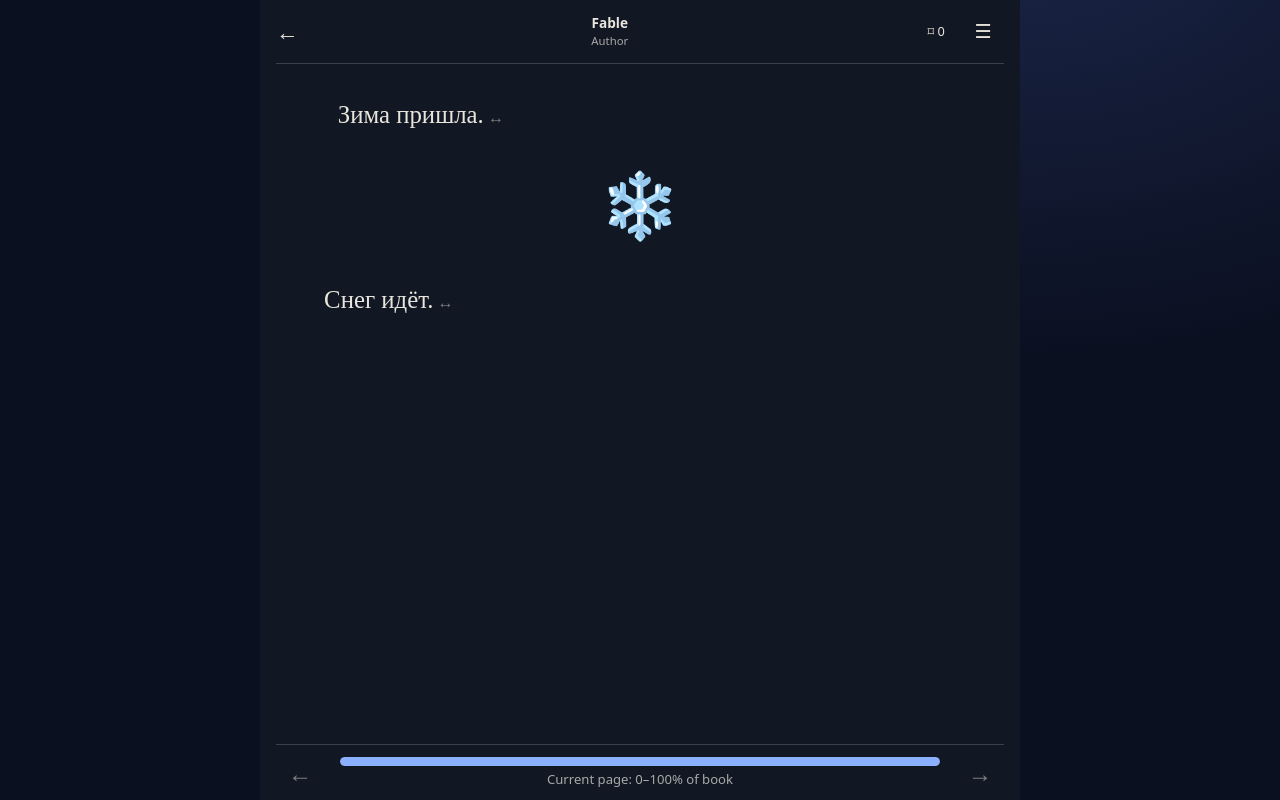
it: ReaderView › saves a bookmark through the store, where a later visit can find it
Click the button with class "reader-reveal" next to "пришла": [496, 117] box left=486, top=106, right=506, bottom=128
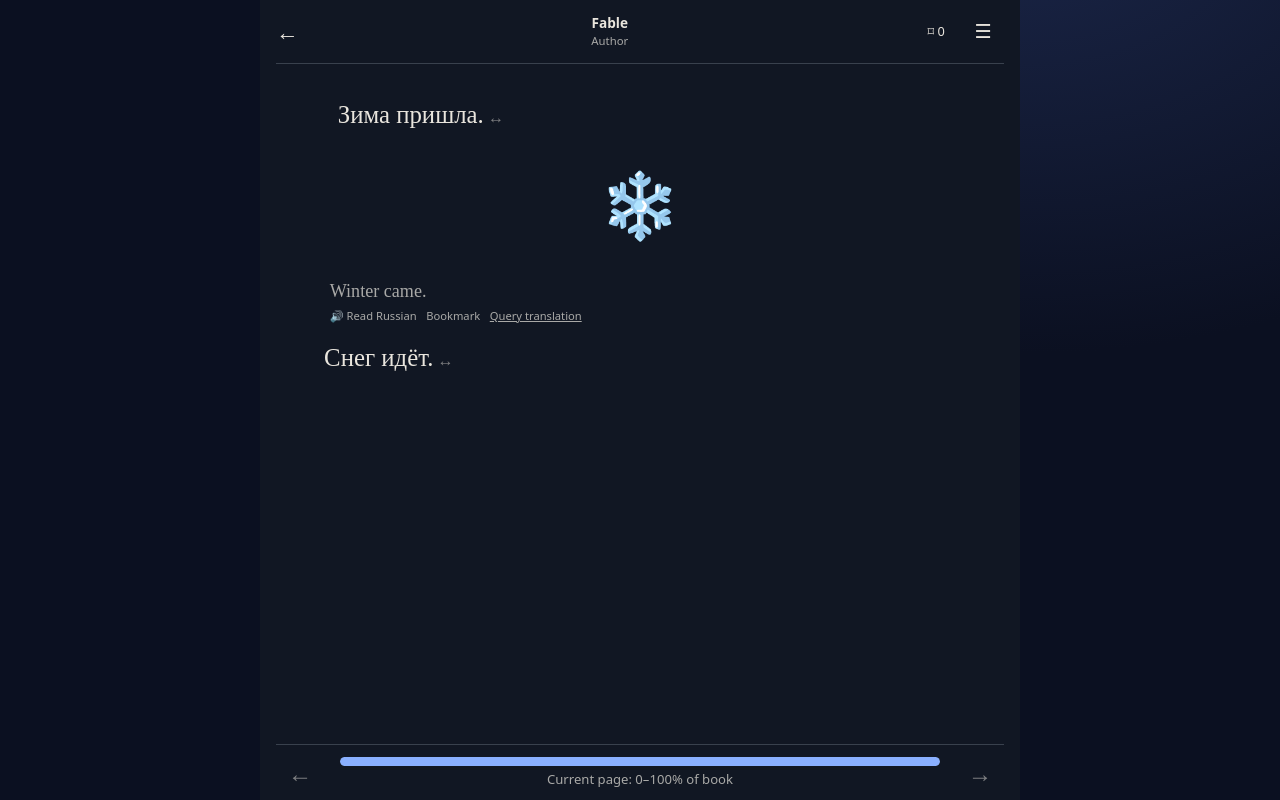
Click the button "Bookmark": [453, 316] box left=426, top=308, right=480, bottom=323
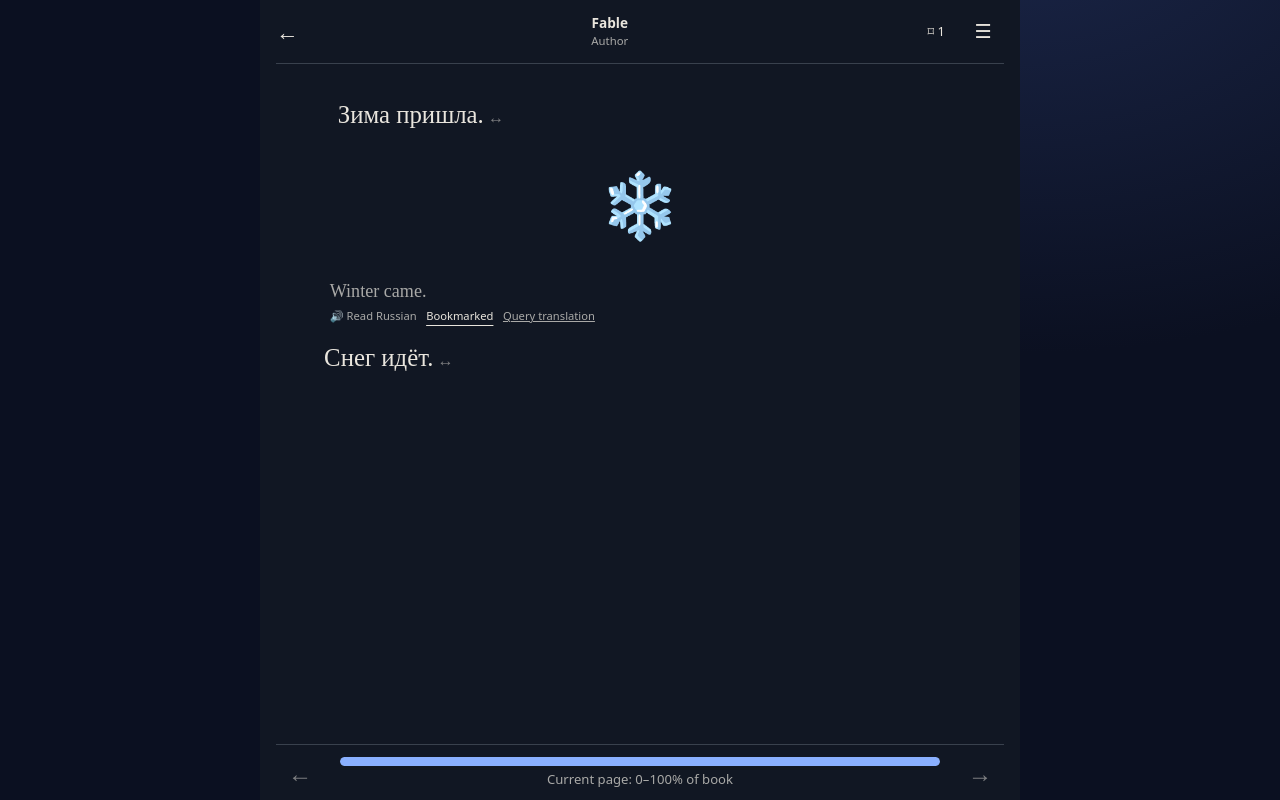
Check: the button with class "reader-saved" shows "1", box left=921, top=16, right=951, bottom=48
